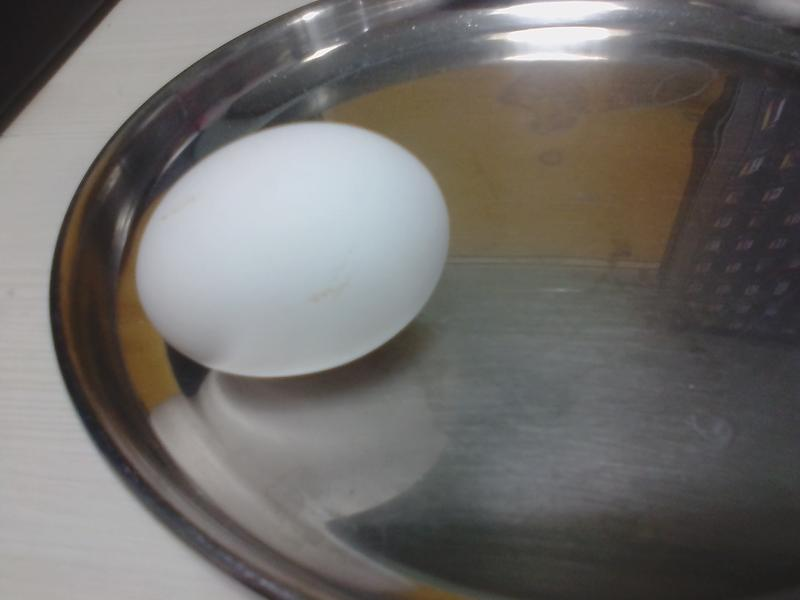egg: (138, 128, 444, 375)
